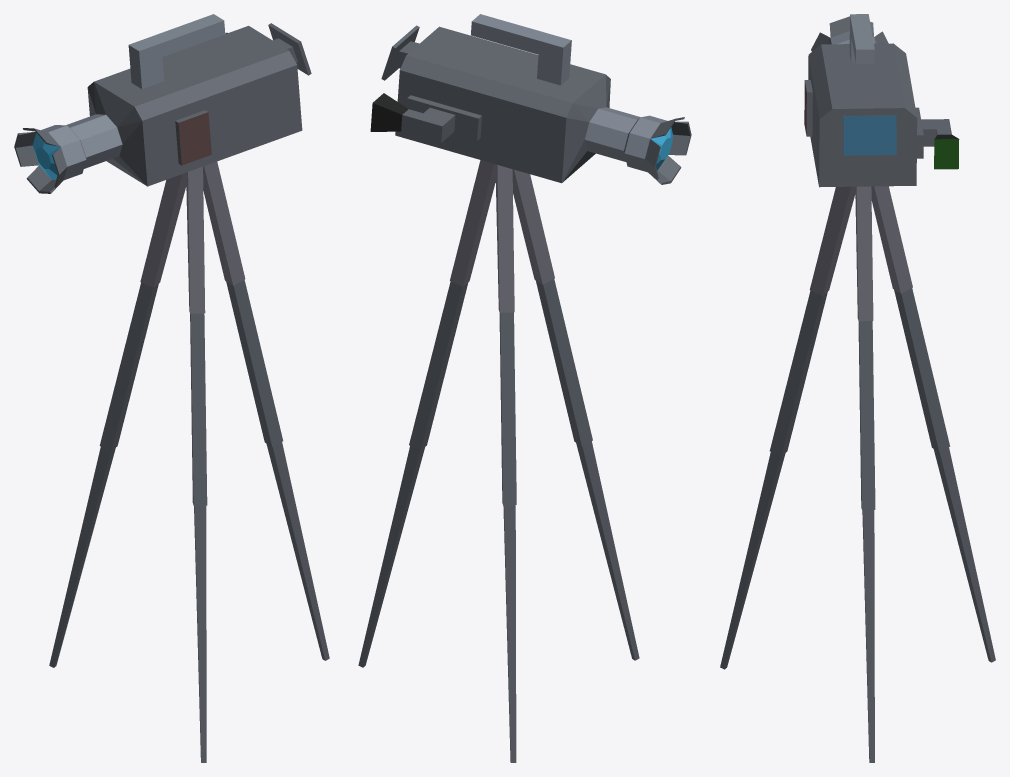
The model's file is Camera.fbx.
3 renders of one model, left to right at view 1: azimuth 30°, elevation 25°; view 2: azimuth 150°, elevation 25°; view 3: azimuth 270°, elevation 25°, orthographic.
Visible parts, largest first — view 1: camera; view 2: camera; view 3: camera.
Boxes of the visible parts, x1,y1,x2,y2 form: camera: (14,14,329,762); camera: (358,14,691,762); camera: (720,14,995,762).
Size of the model in its own units: 108 by 227 by 85.91.
